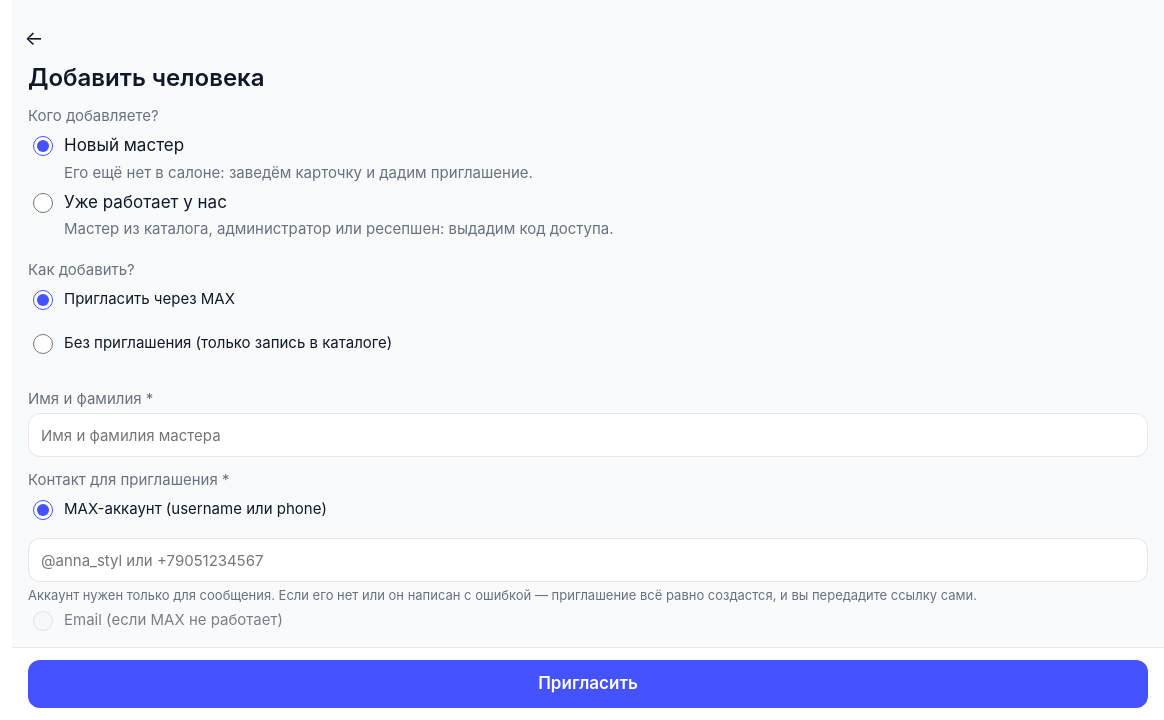
Test: поле называет сервер, а не наш разбор текста › details.field=name → подпись у поля имени
The width and height of the screenshot is (1164, 720).
Type "Анна Петрова" into the field labelled "Имя и фамилия *" at (588, 435), box [28,413,1148,457]
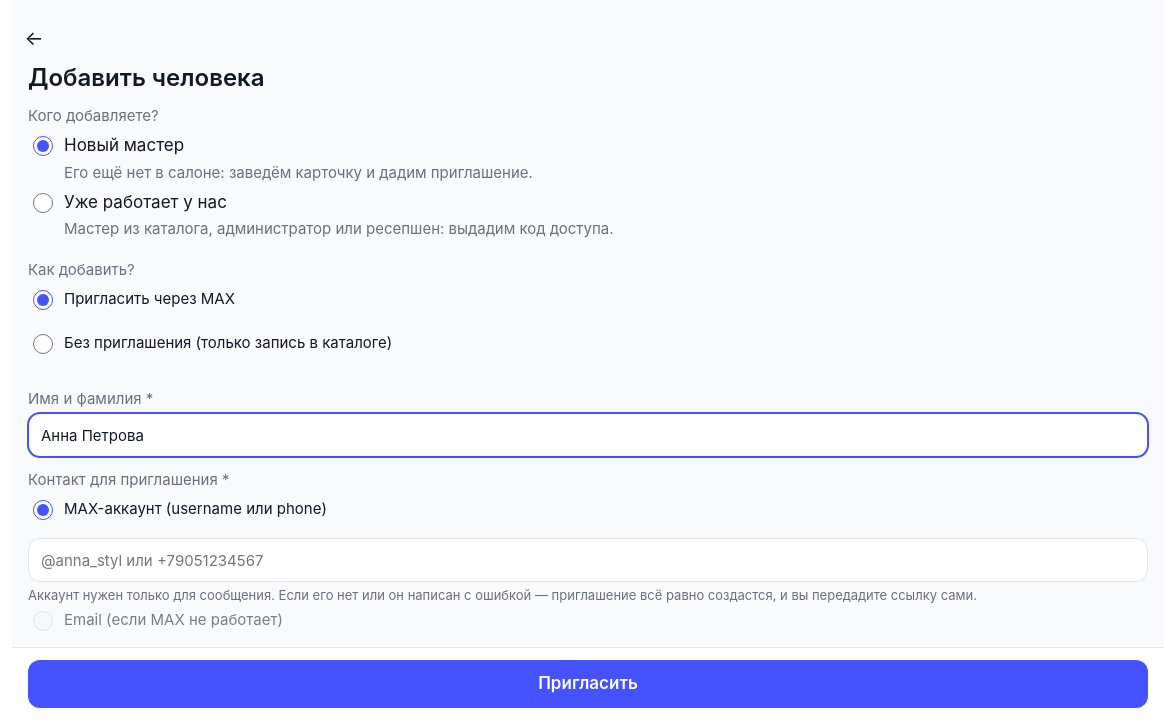
Type "@anna_styl" into the field with placeholder "@anna_styl или +79051234567" at (588, 560), box [28,538,1148,582]
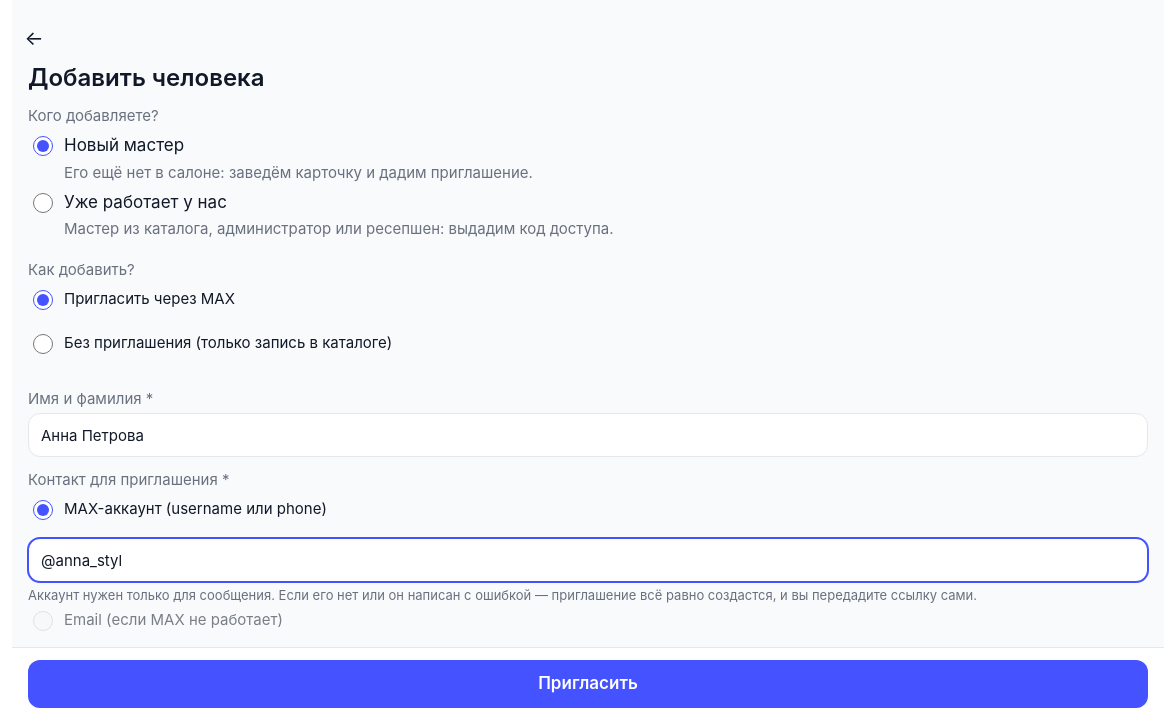
Click the button "Пригласить" at (588, 684), box [28,660,1148,708]
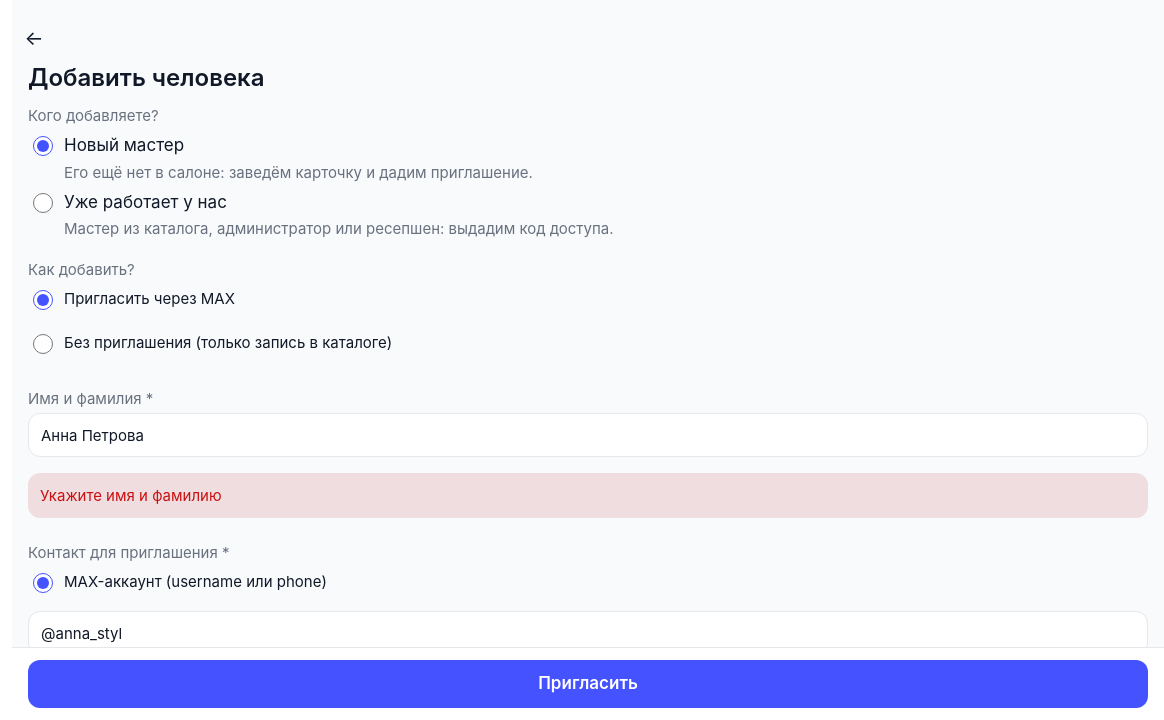
Now the text "Укажите имя и фамилию" is shown, box [28,473,1148,518]
